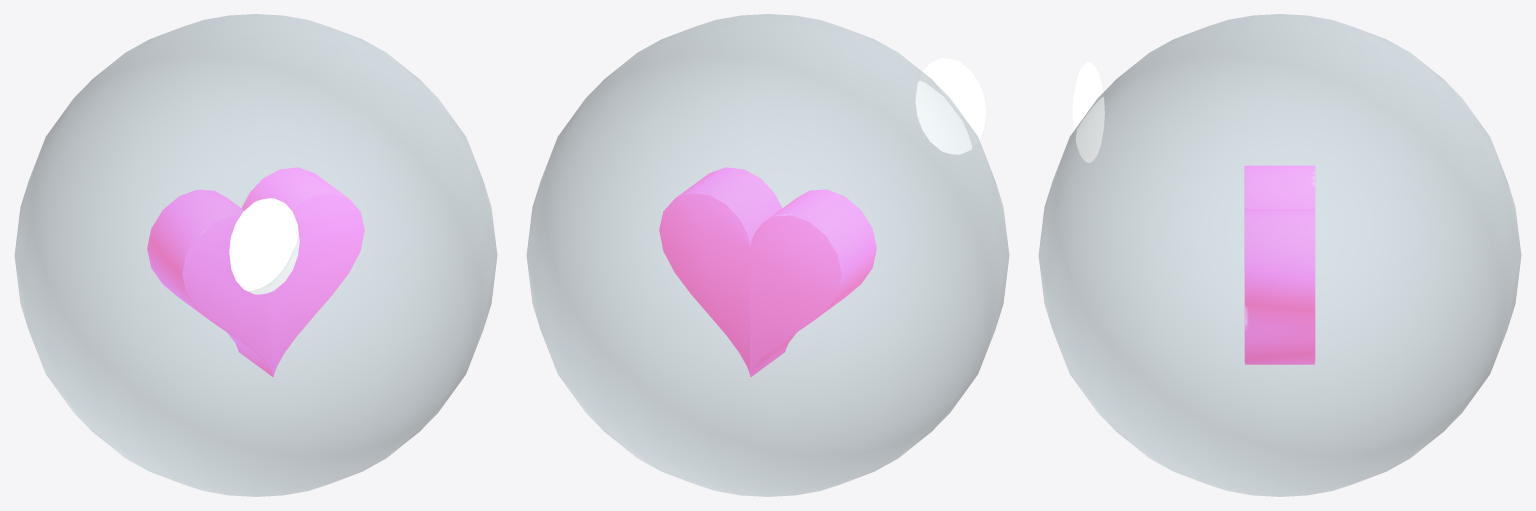
File: mu_powerup_bubble.glb
The picture shows the model from 3 angles, left to right: view 1: azimuth 30°, elevation 25°; view 2: azimuth 150°, elevation 25°; view 3: azimuth 270°, elevation 25°; orthographic projection.
Visible parts, largest first — view 1: mu_powerup_bubble; view 2: mu_powerup_bubble; view 3: mu_powerup_bubble.
Part boxes in pixels (x1,y1,x2,y2): mu_powerup_bubble: [14, 14, 497, 496]; mu_powerup_bubble: [526, 14, 1009, 496]; mu_powerup_bubble: [1038, 14, 1521, 496].
Bounding box in the file's own units: 0.96 × 0.96 × 0.96.
3 materials, 3 textured.
